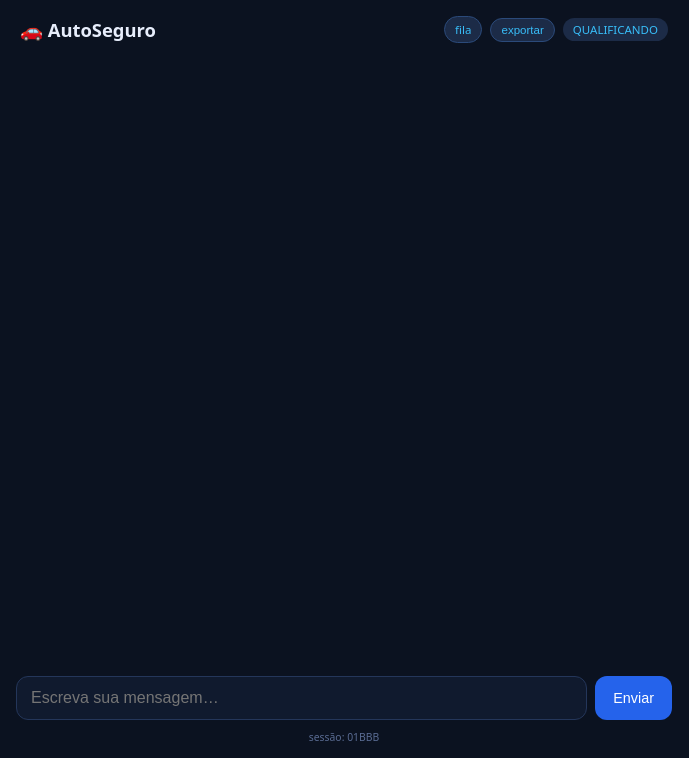
Test: envia mensagem, recebe reply com cotação e renderiza QuoteCard
This screenshot has width=689, height=758.
Type "é isso" into the field labelled "mensagem". click: (302, 698)
box: [16, 676, 587, 720]
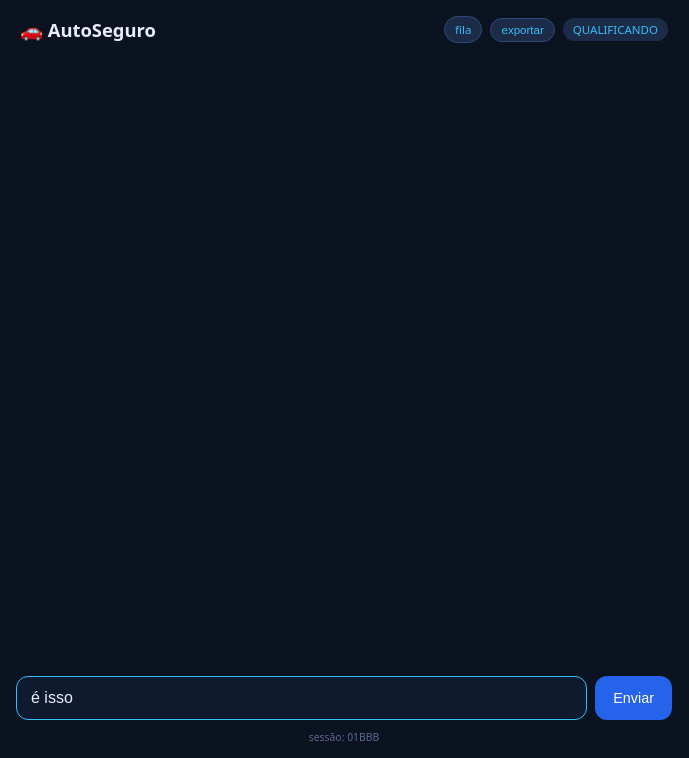
Click the button "Enviar". click: (634, 698)
box: [595, 676, 672, 720]
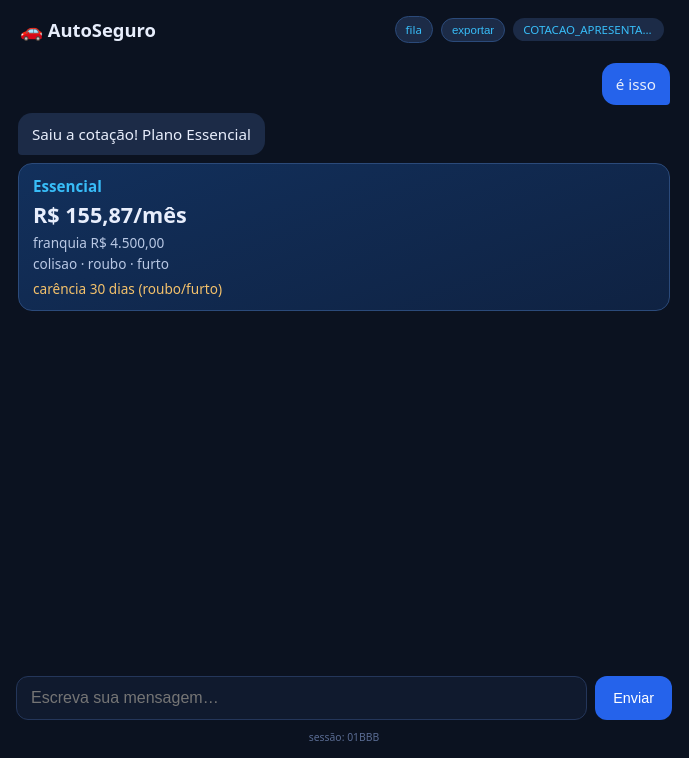
Expected: the text "R$ 155,87/mês" is shown, [33, 200, 187, 229]
Expected: the text "carência 30 dias (roubo/furto)" is shown, [33, 279, 222, 298]
Expected: the text "Saiu a cotação! Plano Essencial" is shown, [18, 113, 265, 155]
